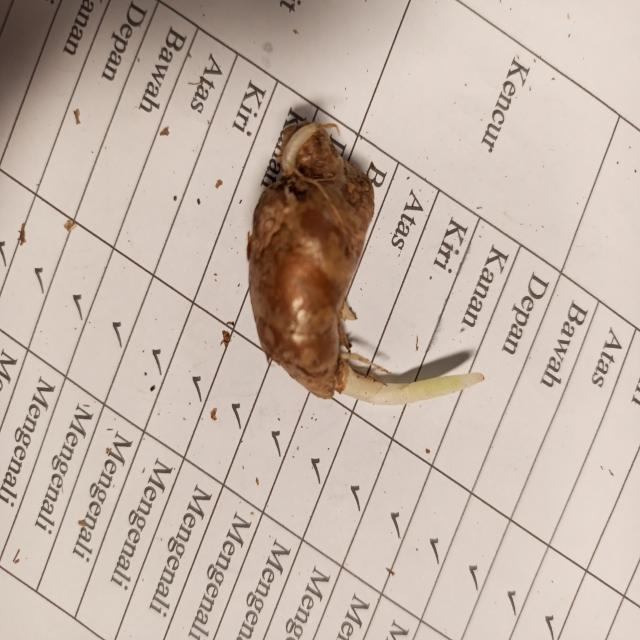ginger: (255, 122, 372, 398)
